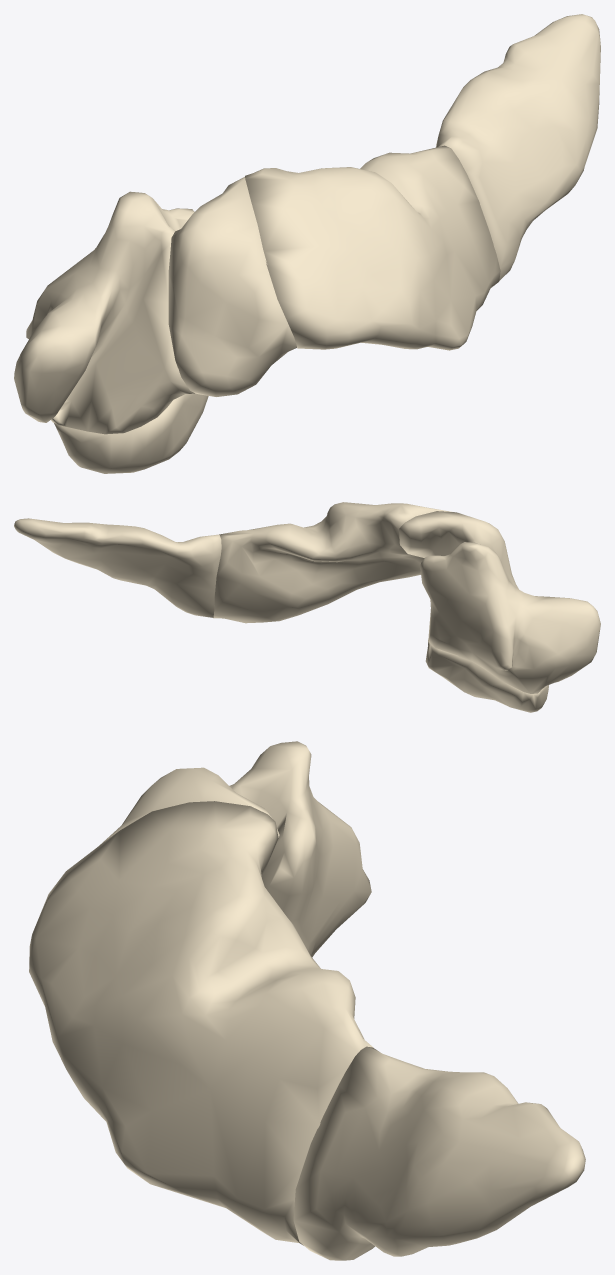
The model's file is vh_f_pancreas-20.glb.
3 renders of one model, top to bottom at view 1: azimuth 30°, elevation 25°; view 2: azimuth 150°, elevation 25°; view 3: azimuth 270°, elevation 25°, orthographic. The views are drawn at different scales.
Visible parts, largest first — view 1: VH_F_body_of_pancreas, VH_F_head_of_pancreas, VH_F_tail_of_pancreas, VH_F_neck_of_pancreas, VH_F_uncinate_process; view 2: VH_F_body_of_pancreas, VH_F_head_of_pancreas, VH_F_tail_of_pancreas, VH_F_neck_of_pancreas, VH_F_uncinate_process; view 3: VH_F_body_of_pancreas, VH_F_tail_of_pancreas, VH_F_head_of_pancreas, VH_F_neck_of_pancreas.
Part boxes in pixels (x1,y1,x2,y2): VH_F_body_of_pancreas: (245,145,500,350); VH_F_head_of_pancreas: (14,191,194,434); VH_F_tail_of_pancreas: (436,14,600,280); VH_F_neck_of_pancreas: (168,177,296,396); VH_F_uncinate_process: (54,393,208,473); VH_F_body_of_pancreas: (213,502,451,623); VH_F_head_of_pancreas: (420,542,600,693); VH_F_tail_of_pancreas: (14,518,221,617); VH_F_neck_of_pancreas: (399,511,518,589); VH_F_uncinate_process: (425,640,548,712); VH_F_body_of_pancreas: (29,801,373,1245); VH_F_tail_of_pancreas: (293,1046,585,1260); VH_F_head_of_pancreas: (229,741,371,957); VH_F_neck_of_pancreas: (99,767,279,845).
Size of the model in its own units: 0.172 by 0.0579 by 0.0844.
